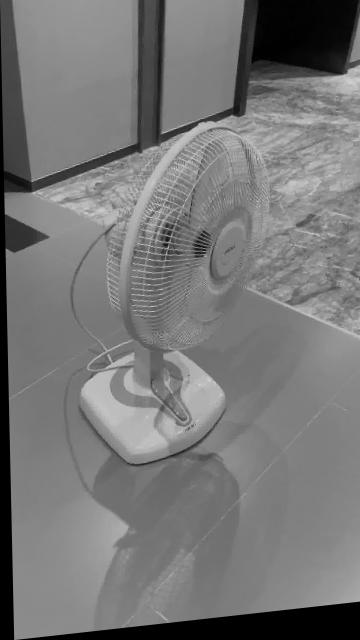Fan: (77, 125, 269, 469)
